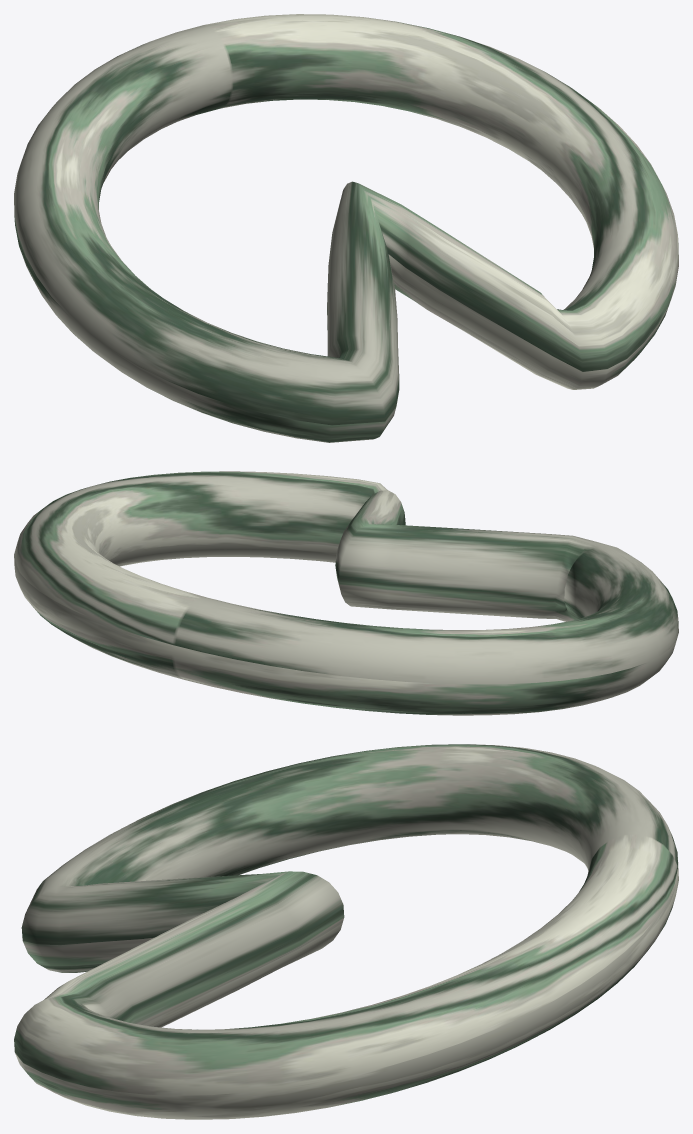
File: fff.obj
3 views of the same model, one above another, from view 1: azimuth 30°, elevation 25°; view 2: azimuth 150°, elevation 25°; view 3: azimuth 270°, elevation 25° (orthographic). The views are drawn at different scales.
Parts seen in each view (by area): view 1: Torus001; view 2: Torus001; view 3: Torus001.
Boxes of the visible parts, box(x1,y1,x2,y2) form: Torus001: box(14, 14, 678, 442); Torus001: box(14, 471, 678, 715); Torus001: box(14, 744, 678, 1119).
Size of the model in its own units: 59.99 by 18.41 by 56.02.
